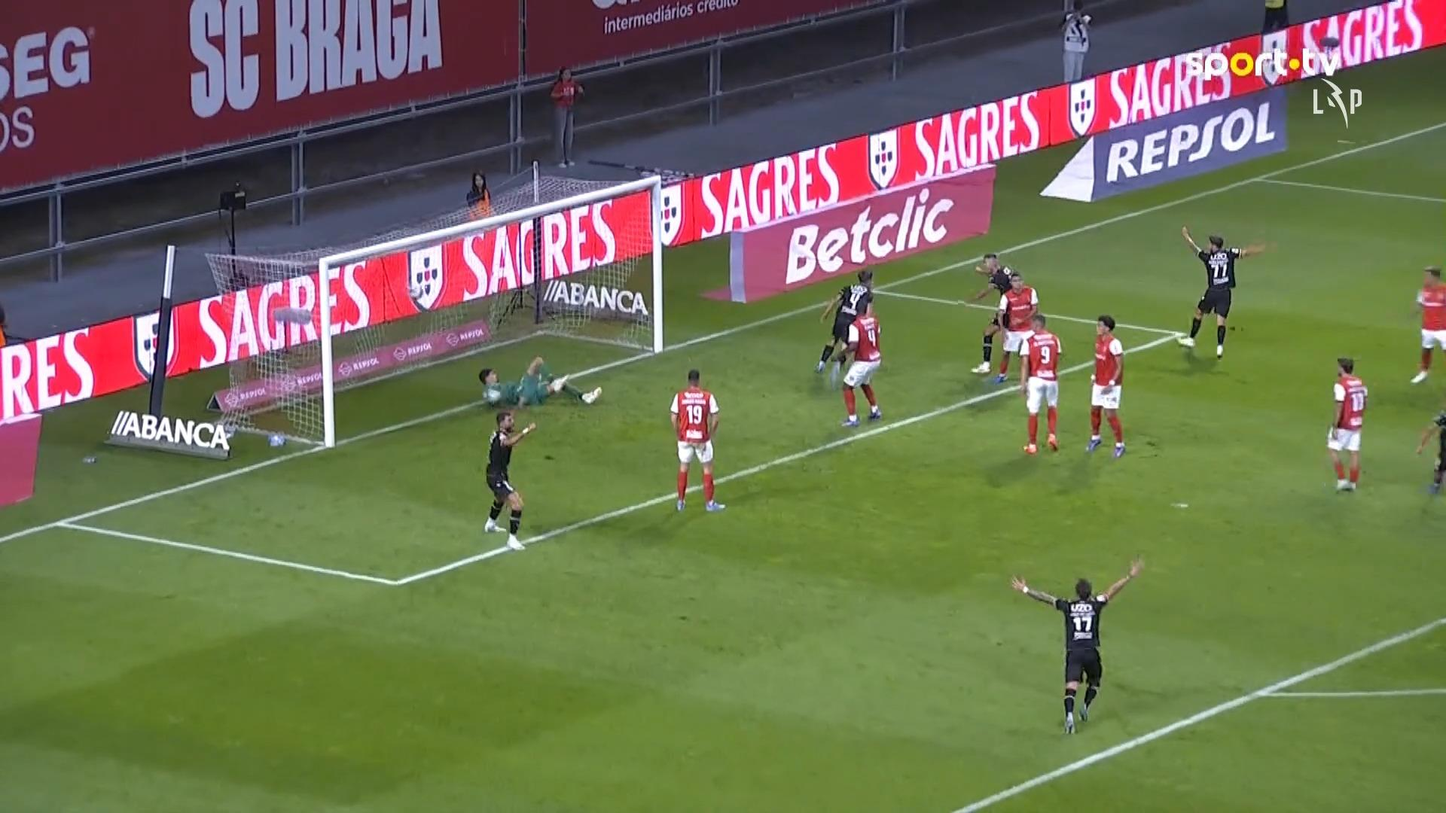ball: (485, 388, 501, 403)
goalkeeper: (477, 355, 602, 409)
player: (1008, 554, 1143, 735), (1176, 224, 1266, 358), (668, 368, 725, 512), (483, 409, 538, 550), (814, 267, 874, 376), (831, 302, 883, 427), (1017, 312, 1062, 453), (1084, 314, 1126, 458), (964, 252, 1012, 374), (1326, 355, 1368, 491), (993, 269, 1039, 385), (1409, 264, 1444, 383), (1414, 410, 1444, 495)
